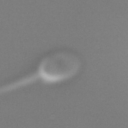normal: (1, 69, 41, 95)
